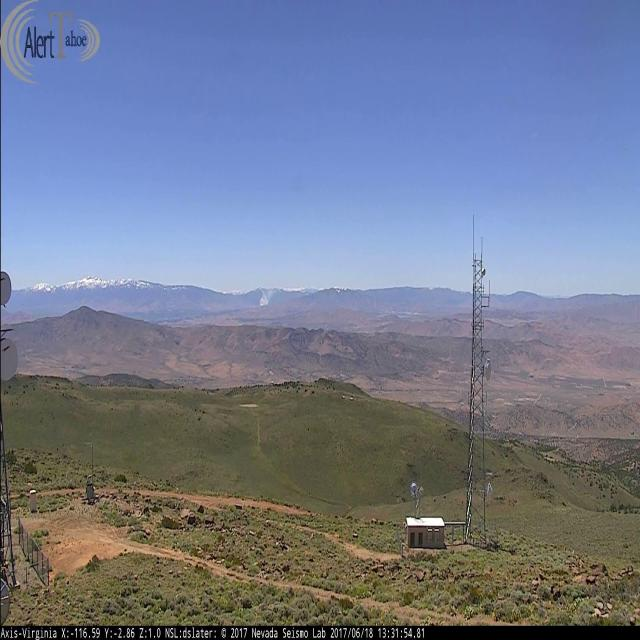smoke: (260, 285, 278, 304)
